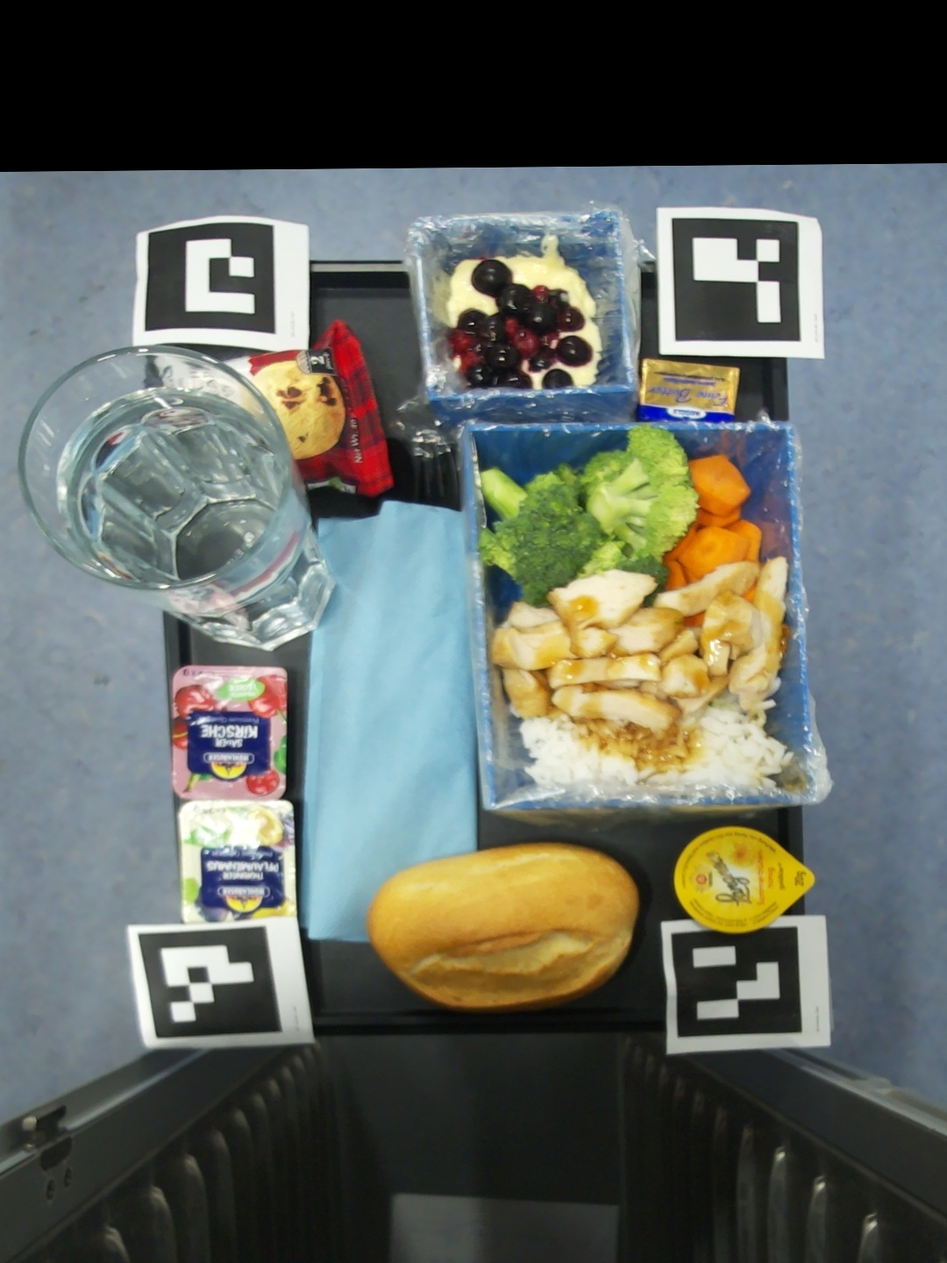bread_roll: (366, 842, 640, 1011)
broccoli: (480, 424, 701, 609)
butter: (635, 355, 742, 423)
carrots: (663, 454, 762, 590)
cherry_jam: (171, 664, 287, 800)
chicken: (491, 557, 791, 741)
cookie: (227, 319, 394, 496)
honey: (674, 828, 815, 933)
plum_jam: (177, 799, 298, 923)
rice: (520, 674, 794, 791)
vanilla_pudding_with_fruits: (445, 257, 602, 390)
water_bottle: (20, 349, 335, 652)
